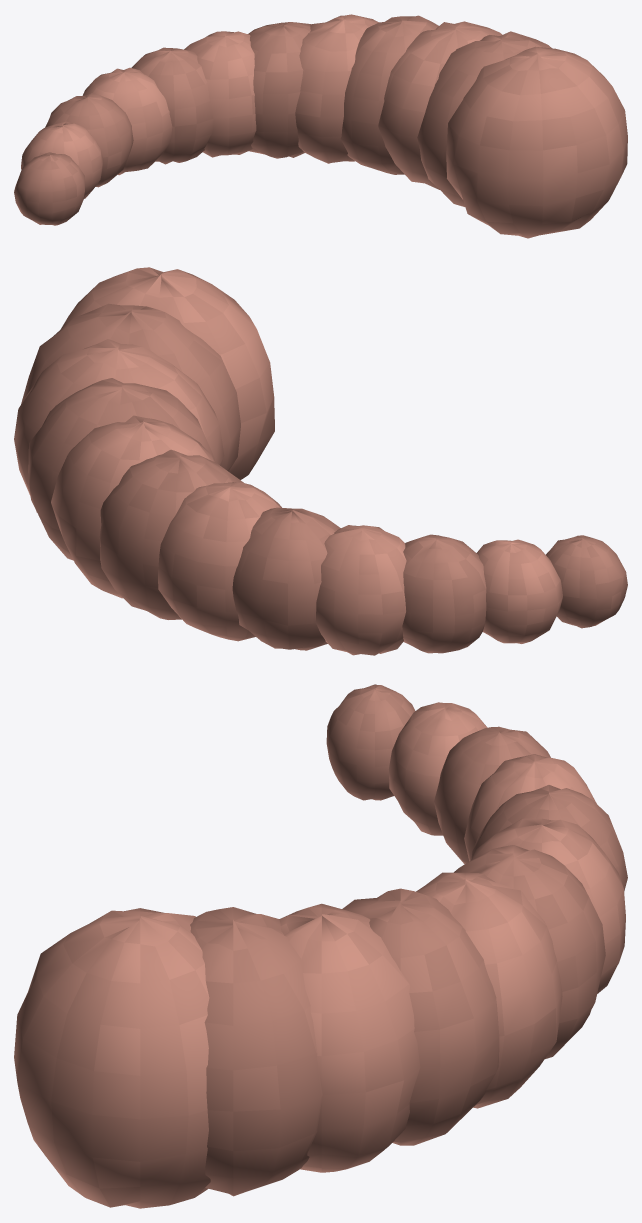
File: Shrimp.glb
The picture shows the model from 3 angles, top to bottom: view 1: azimuth 30°, elevation 25°; view 2: azimuth 150°, elevation 25°; view 3: azimuth 270°, elevation 25°; orthographic projection. The views are drawn at different scales.
Parts seen in each view (by area): view 1: Shrimp; view 2: Shrimp; view 3: Shrimp.
Boxes of the visible parts, box(x1,y1,x2,y2) form: Shrimp: box(14, 14, 627, 238); Shrimp: box(14, 267, 627, 655); Shrimp: box(14, 684, 627, 1208).
Size of what is drawn, in the model's own units: 0.0625 by 0.0207 by 0.0405.
